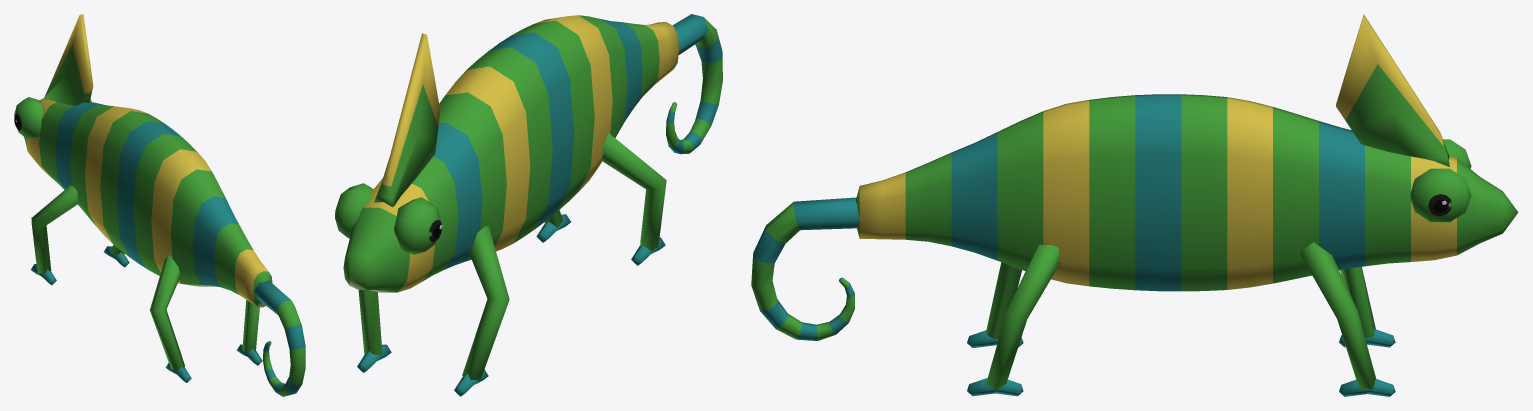
The model's file is chameleon.glb.
3 renders of one model, left to right at view 1: azimuth 30°, elevation 25°; view 2: azimuth 150°, elevation 25°; view 3: azimuth 270°, elevation 25°, orthographic. The views are drawn at different scales.
Visible parts, largest first — view 1: chameleon; view 2: chameleon; view 3: chameleon.
Boxes of the visible parts, x1,y1,x2,y2 form: chameleon: [14, 14, 305, 396]; chameleon: [335, 14, 722, 396]; chameleon: [751, 14, 1518, 396].
Size of the model in its own units: 0.5207 by 1.13 by 2.21.
